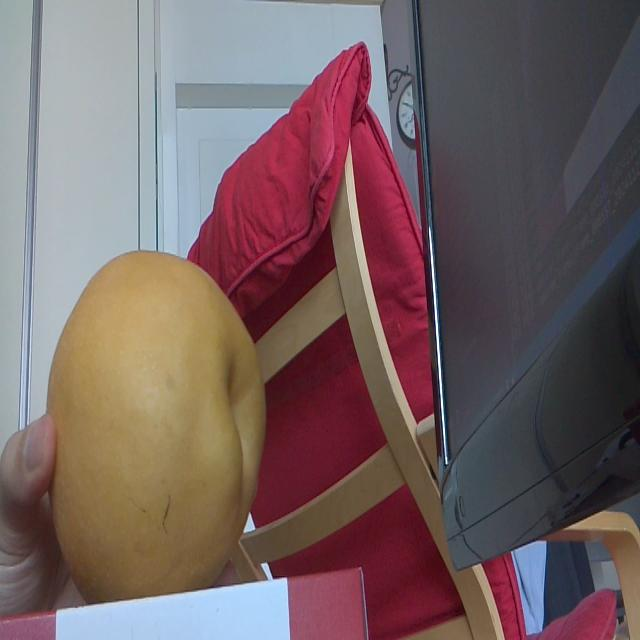pear: (46, 251, 262, 587)
